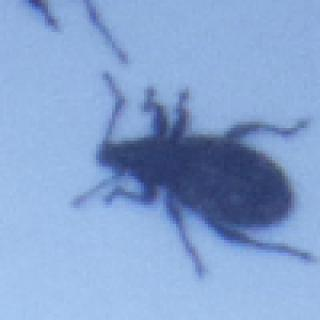bvw: (71, 75, 318, 279)
